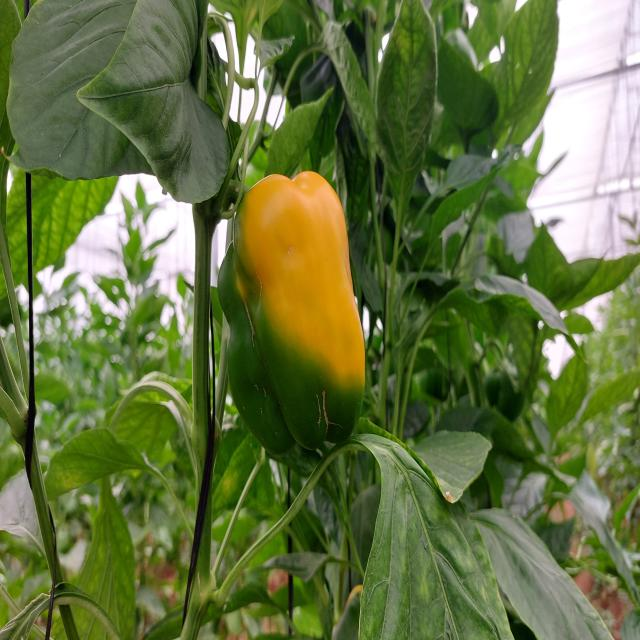Yellow-Ready-to-Harvest: (236, 171, 370, 394)
